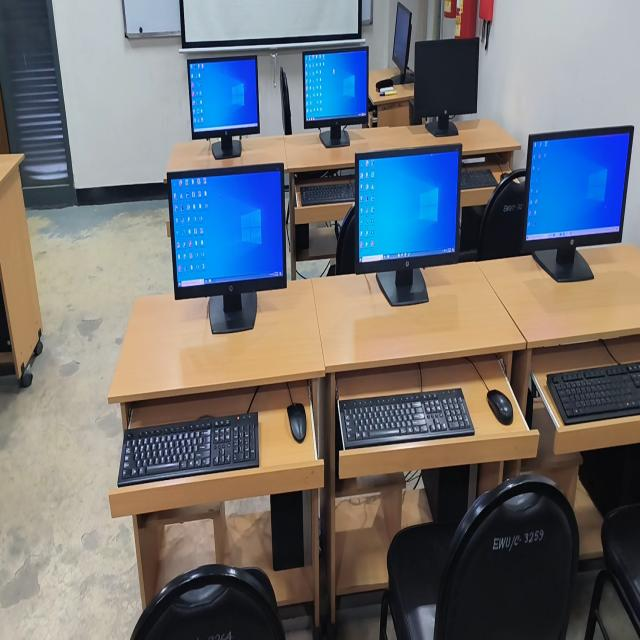Chair: (379, 474, 579, 639), (131, 564, 285, 639), (585, 504, 640, 639), (477, 169, 525, 260), (336, 208, 355, 274)
Cpu: (579, 444, 640, 517), (270, 491, 311, 570), (422, 465, 478, 522)
Fire Extinguisher: (454, 0, 477, 38), (444, 0, 457, 18)
Keyboard: (119, 412, 259, 485), (336, 388, 475, 451), (547, 363, 640, 425), (300, 182, 354, 206), (461, 167, 497, 190)
Monitor: (168, 164, 286, 334), (522, 126, 634, 281), (354, 144, 461, 305), (188, 56, 259, 159), (302, 47, 368, 147), (414, 38, 479, 136), (393, 3, 412, 83)
Mouse: (487, 389, 513, 425), (287, 404, 307, 443)
